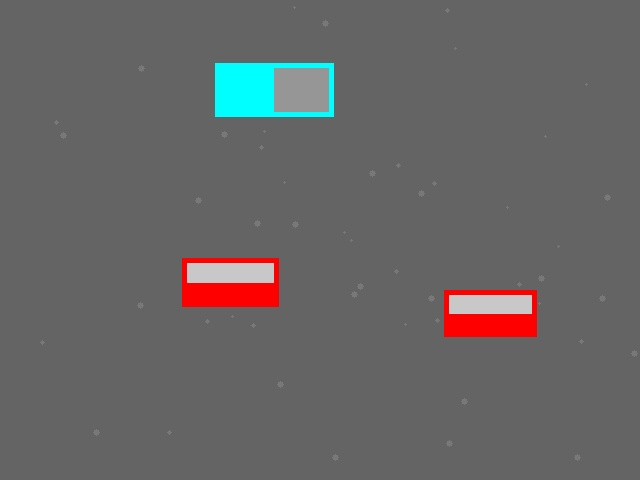car: (182, 258, 278, 306), (444, 290, 536, 336)
truck: (215, 63, 333, 116)
